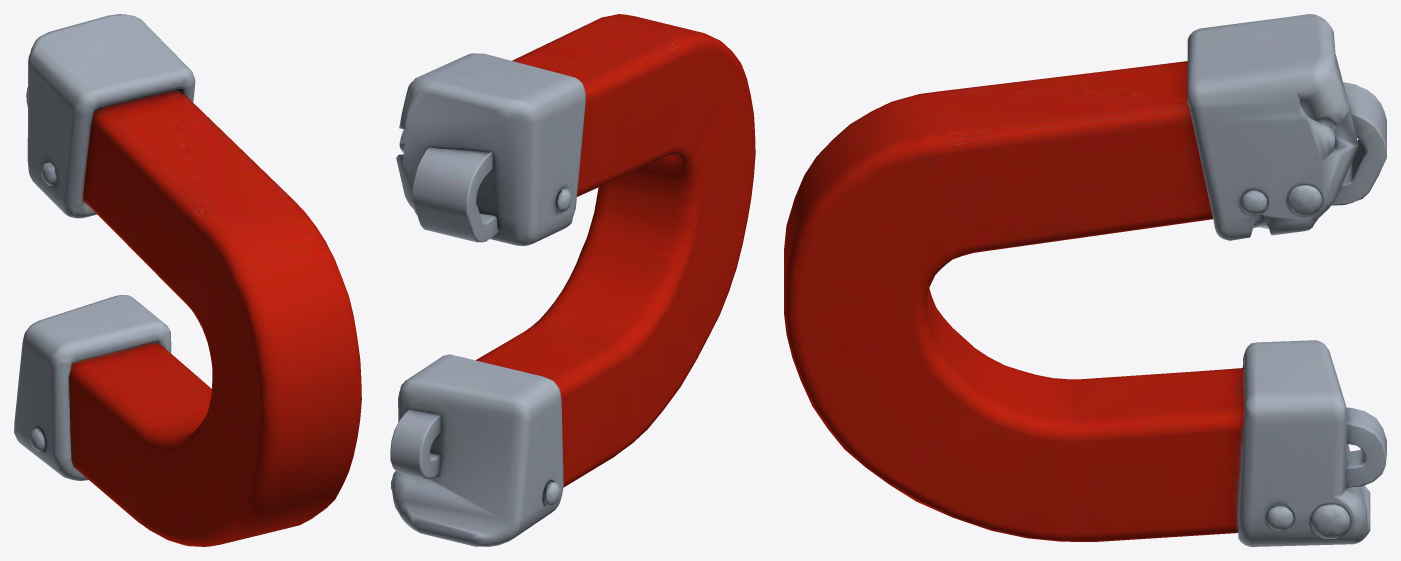
The model's file is magnet.glb.
The picture shows the model from 3 angles, left to right: view 1: azimuth 30°, elevation 25°; view 2: azimuth 150°, elevation 25°; view 3: azimuth 270°, elevation 25°; orthographic projection. The views are drawn at different scales.
Parts seen in each view (by area): view 1: tripo_node_2876b30c-fa1e-4ff7-8ebb-963b70605ac6; view 2: tripo_node_2876b30c-fa1e-4ff7-8ebb-963b70605ac6; view 3: tripo_node_2876b30c-fa1e-4ff7-8ebb-963b70605ac6.
Part boxes in pixels (x1,y1,x2,y2): tripo_node_2876b30c-fa1e-4ff7-8ebb-963b70605ac6: [14, 14, 361, 546]; tripo_node_2876b30c-fa1e-4ff7-8ebb-963b70605ac6: [390, 14, 755, 546]; tripo_node_2876b30c-fa1e-4ff7-8ebb-963b70605ac6: [784, 14, 1386, 546].
Size of the model in its own units: 0.2949 by 0.8964 by 0.998.
Materials: 1 (1 with a texture image).
